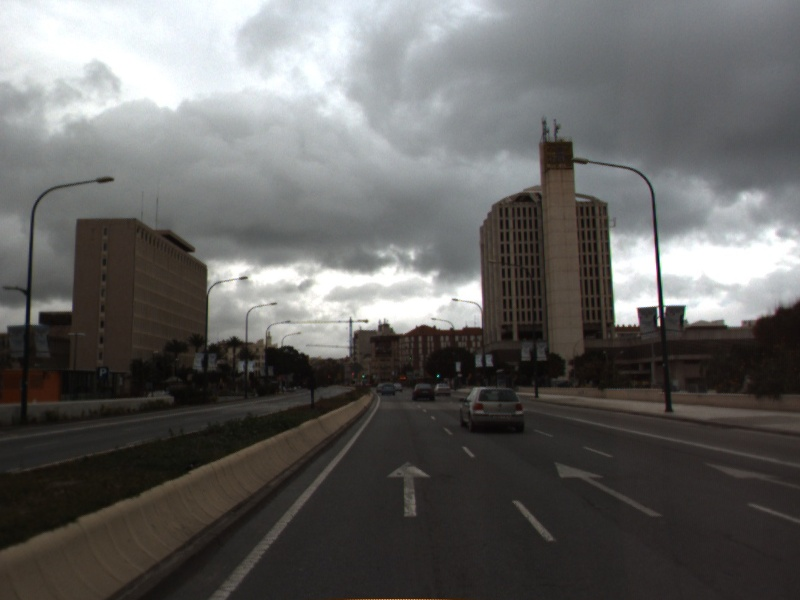STRAIGHT: (552, 459, 666, 519), (701, 459, 800, 491), (384, 458, 434, 519)
